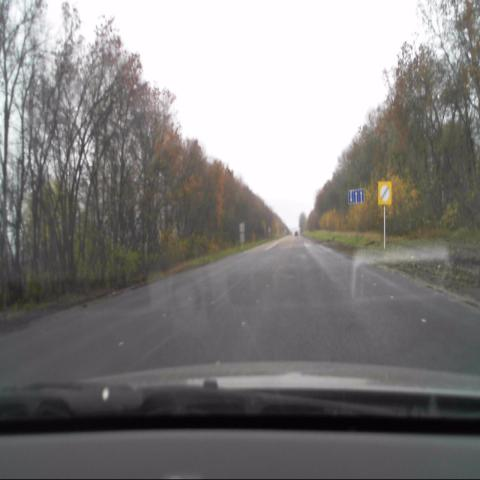3_31: (378, 181, 392, 204)
